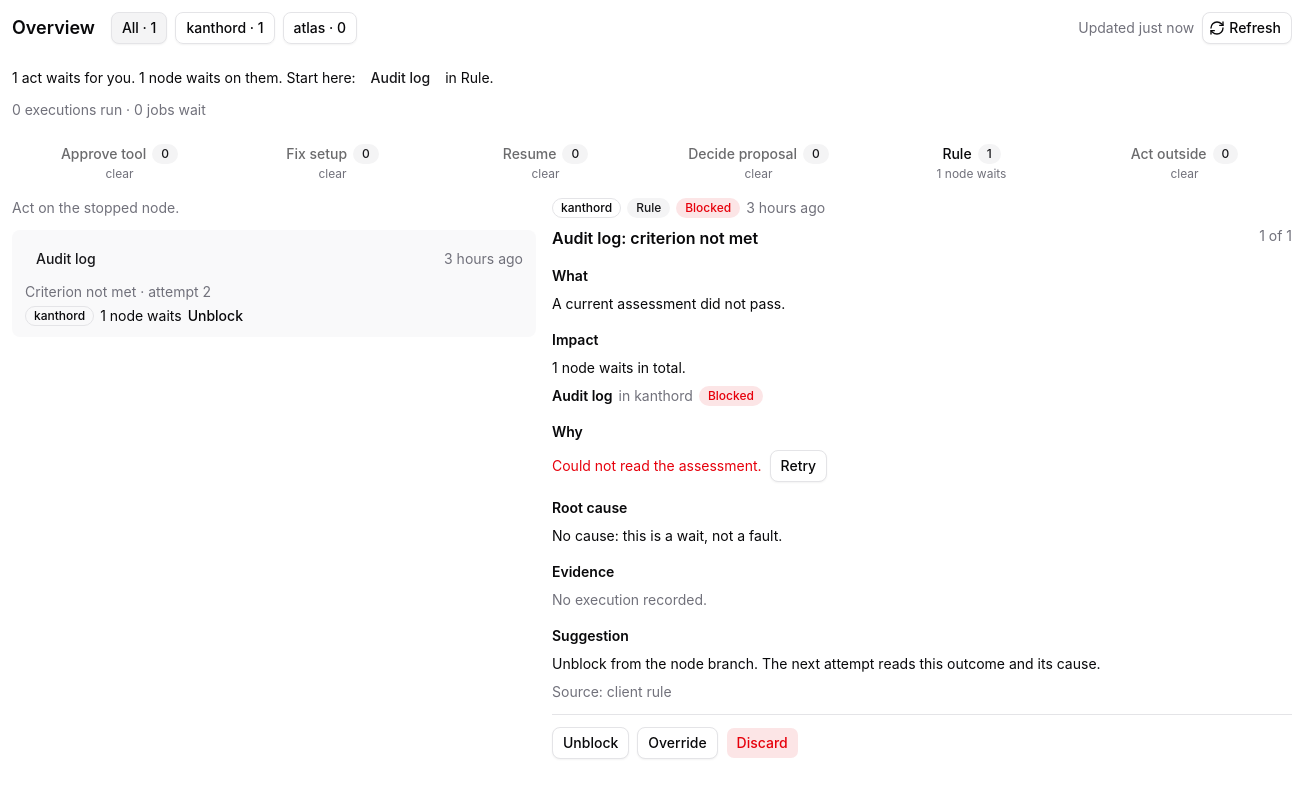
Test: OverviewScreen assessment › names a failed assessment read and retries it
Check: the text "Could not read the assessment." is shown, box [552,456,762,476]
Click the button "Retry". click: (798, 466)
box: [770,450,827,482]
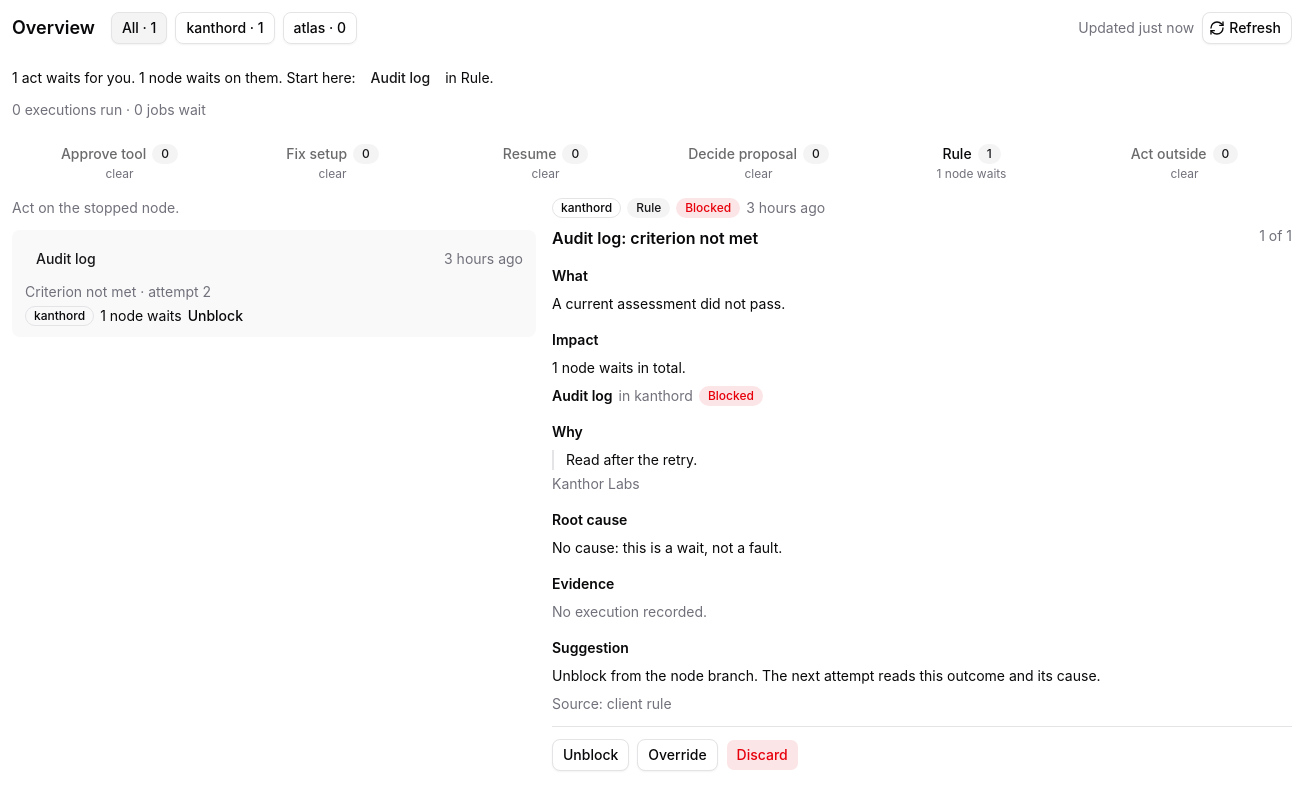
Check: the text "Read after the retry." is shown, box [552,450,1259,470]
